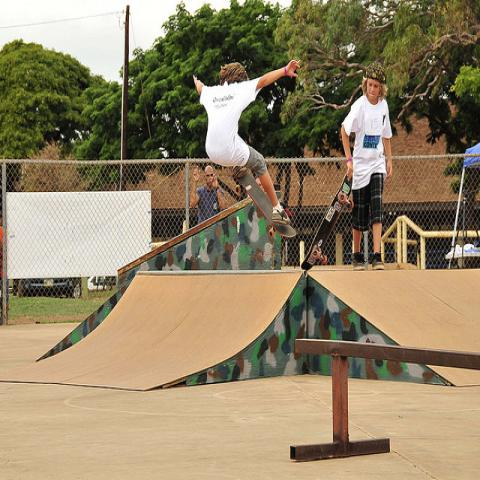car: (11, 278, 83, 300), (88, 277, 108, 293)
